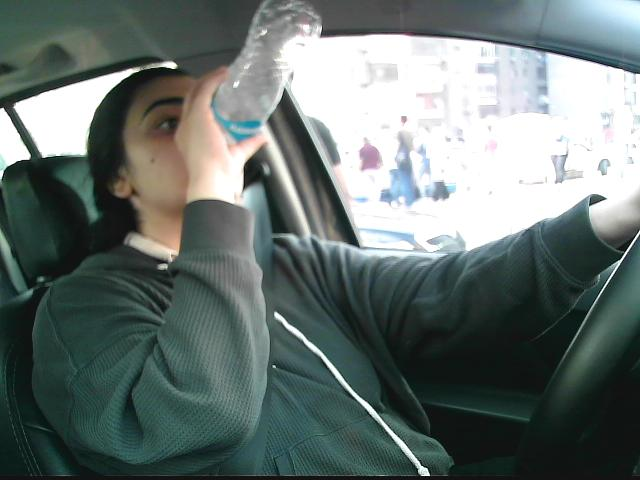Drinking: (209, 0, 323, 158)
